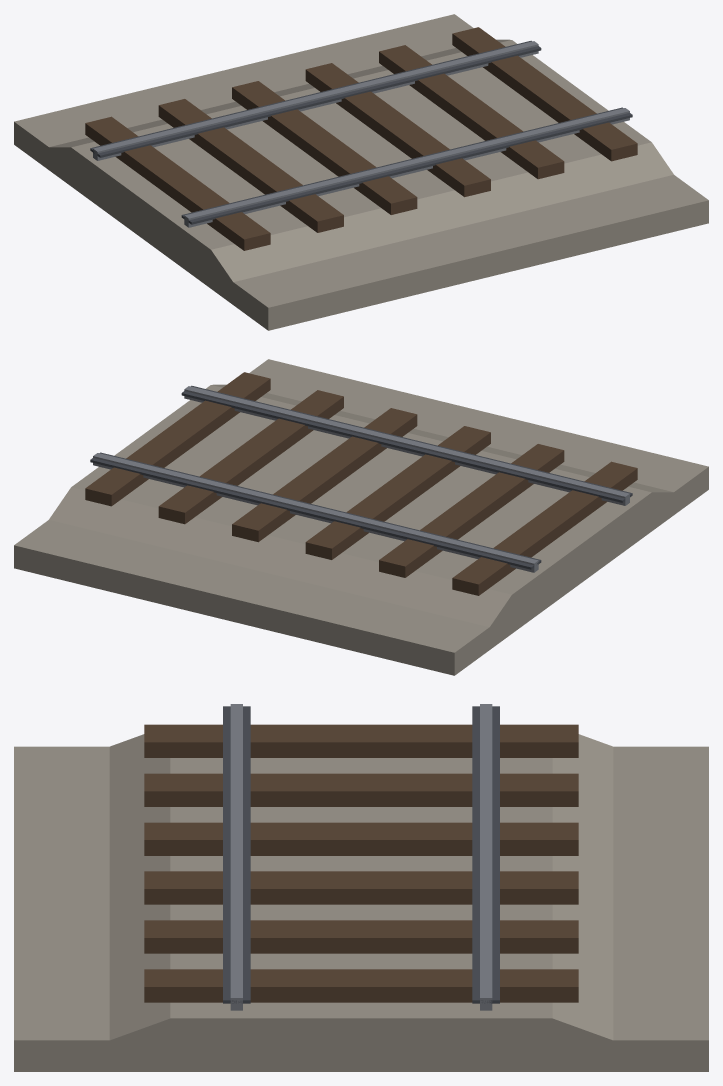
The model's file is Rail_Straight.glb.
3 views of the same model, one above another, from view 1: azimuth 30°, elevation 25°; view 2: azimuth 150°, elevation 25°; view 3: azimuth 270°, elevation 25° (orthographic). The views are drawn at different scales.
Visible parts, largest first — view 1: Rail_Straight; view 2: Rail_Straight; view 3: Rail_Straight.
Boxes of the visible parts, x1=… form: Rail_Straight: x1=14, y1=14, x2=708, y2=330; Rail_Straight: x1=14, y1=359, x2=708, y2=675; Rail_Straight: x1=14, y1=704, x2=708, y2=1071.
Size of the model in its own units: 4 by 0.47 by 4.
Materials: 1 (1 with a texture image).
